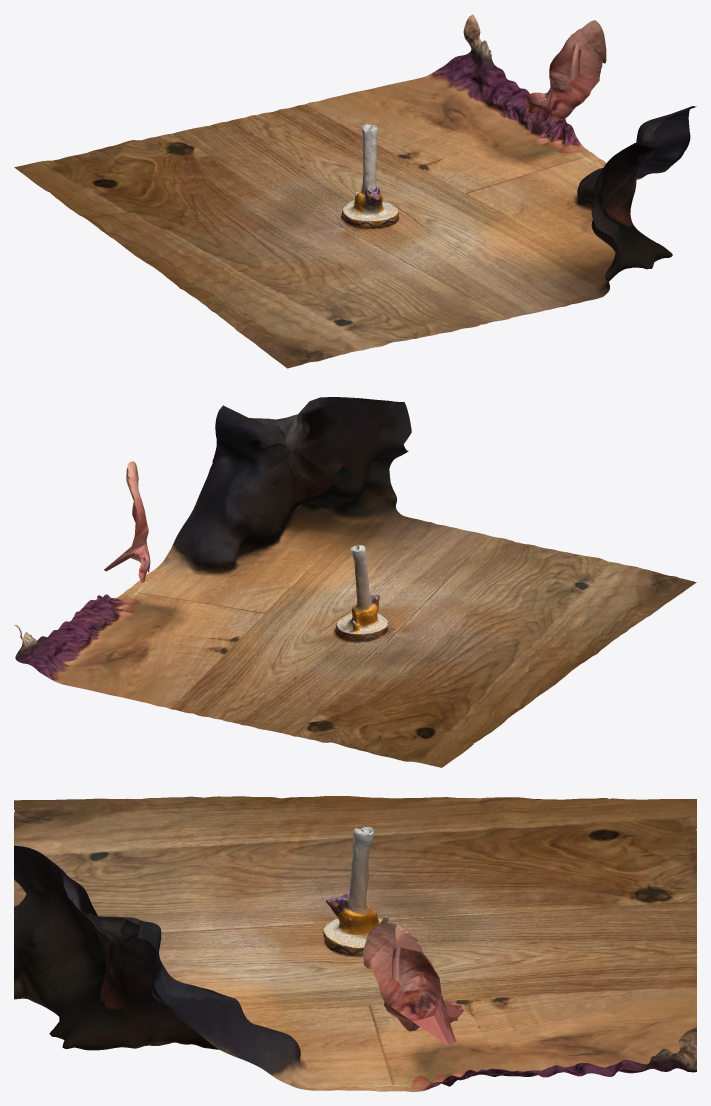
3 renders of one model, top to bottom at view 1: azimuth 30°, elevation 25°; view 2: azimuth 150°, elevation 25°; view 3: azimuth 270°, elevation 25°, orthographic. The views are drawn at different scales.
Bounding box in the file's own units: 2.13 × 0.603 × 2.2.
Materials: 1 (1 with a texture image).
